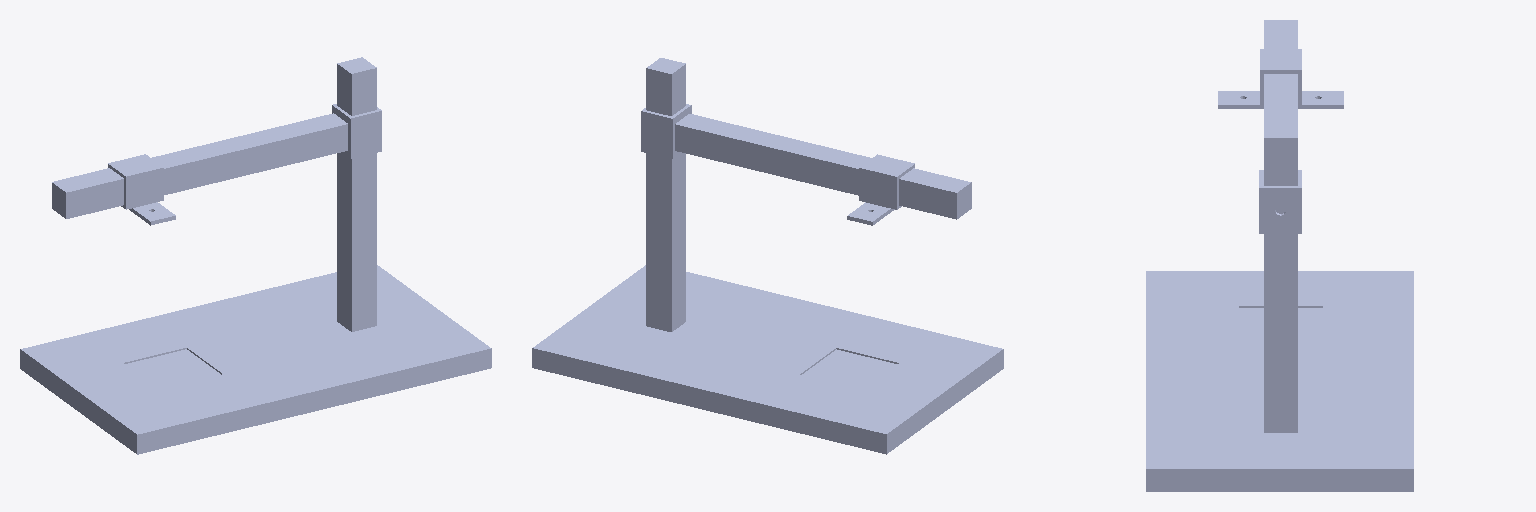
URDF robot description (cal_station):
<?xml version="1.0" encoding="utf-8"?>
<!-- This URDF was automatically created by SolidWorks to URDF Exporter! Originally created by [author] ([email redacted])
     Commit Version: 1.5.1-0-g916b5db  Build Version: 1.5.7152.31018
     For more information, please see http://wiki.ros.org/sw_urdf_exporter -->
<robot name="cal_station">

  <!-- LINKS BELOW-->
  <link name="Base">
    <inertial>
      <origin
        xyz="-0.06146 -0.00046784 0.0033497"
        rpy="0 0 0" />
      <mass
        value="0.75425" />
      <inertia
        ixx="0.00249"
        ixy="-3.0378E-06"
        ixz="-0.00059244"
        iyy="0.0059122"
        iyz="-3.8555E-06"
        izz="0.0063221" />
    </inertial>
    <visual>
      <origin
        xyz="0 0 0"
        rpy="0 0 0" />
      <geometry>
        <mesh
          filename="package://cal_station/meshes/Base.STL" />
      </geometry>
      <material name="">
        <color rgba="0.79216 0.81961 0.93333 1" />
      </material>
    </visual>
    <collision>
      <origin
        xyz="0 0 0"
        rpy="0 0 0" />
      <geometry>
        <mesh filename="package://cal_station/meshes/Base.STL" />
      </geometry>
    </collision>


  </link>
  <link name="Arm">
    <inertial>
      <origin
        xyz="-0.10455 -0.047134 -9.8131E-08"
        rpy="0 0 0" />
      <mass value="0.097342" />
      <inertia
        ixx="7.3209E-06"
        ixy="3.8018E-08"
        ixz="1.2028E-09"
        iyy="0.00048229"
        iyz="2.9935E-12"
        izz="0.00048222" />
    </inertial>
    <visual>
      <origin
        xyz="0 0 0"
        rpy="0 0 0" />
      <geometry>
        <mesh filename="package://cal_station/meshes/Arm.STL" />
      </geometry>
      <material name="">
        <color rgba="0.79216 0.81961 0.93333 1" />
      </material>
    </visual>
    <collision>
      <origin
        xyz="0 0 0"
        rpy="0 0 0" />
      <geometry>
        <mesh filename="package://cal_station/meshes/Arm.STL" />
      </geometry>
    </collision>
  </link>


  <link name="Mount">
    <inertial>
      <origin
        xyz="-1.1102E-16 -0.16473 0.052722"
        rpy="0 0 0" />
      <mass value="0.011078" />
      <inertia
        ixx="1.7417E-06"
        ixy="-5.3872E-22"
        ixz="1.6451E-22"
        iyy="3.7356E-06"
        iyz="-9.0839E-22"
        izz="3.2918E-06" />
    </inertial>
    <visual>
      <origin
        xyz="0 0 0"
        rpy="0 0 0" />
      <geometry>
        <mesh filename="package://cal_station/meshes/Mount.STL" />
      </geometry>
      <material name="">
        <color rgba="0.79216 0.81961 0.93333 1" />
      </material>
    </visual>
    <collision>
      <origin
        xyz="0 0 0"
        rpy="0 0 0" />
      <geometry>
        <mesh filename="package://cal_station/meshes/Mount.STL" />
      </geometry>
    </collision>
  </link>

<!-- JOINTS BELOW -->

  <joint
    name="Arm_j"
    type="prismatic">
    <origin
      xyz="0 0 0.195"
      rpy="1.5708 0 0" />
    <parent
      link="Base" />
    <child
      link="Arm" />
    <axis
      xyz="0 1 0" />
    <limit
      lower="0"
      upper="0"
      effort="0"
      velocity="0" />
  </joint>

  <joint
    name="Mount_j"
    type="prismatic">
    <origin
      xyz="0 0 0"
      rpy="1.5708 1.5708 0" />
    <parent
      link="Arm" />
    <child
      link="Mount" />
    <axis
      xyz="0 1 0" />
    <limit
      lower="0"
      upper="0"
      effort="0"
      velocity="0" />
  </joint>
</robot>

--- Facts derived from the render (not from the file) ---
3 views of the same robot in one strip: view 1: azimuth 30°, elevation 25°; view 2: azimuth 150°, elevation 25°; view 3: azimuth 270°, elevation 25° (orthographic).
Model cal_station with 3 links and 2 joints (2 prismatic), rooted at Base, posed all joints at 0.
Links seen in each view (by area): view 1: Base, Arm, Mount; view 2: Base, Arm, Mount; view 3: Base, Arm, Mount.
Boxes of the visible links, <box> form: Base: <box>20,57,491,454</box>; Arm: <box>52,104,381,218</box>; Mount: <box>108,154,175,225</box>; Base: <box>532,58,1003,454</box>; Arm: <box>641,104,971,219</box>; Mount: <box>847,154,914,225</box>; Base: <box>1146,124,1413,491</box>; Arm: <box>1259,20,1301,233</box>; Mount: <box>1218,49,1343,108</box>.
Size in the robot's own frame: 0.2954 by 0.16 by 0.2102 metres.
Meshes: 3 distinct files referenced, 3 mesh visuals loaded (3 binary STL).
